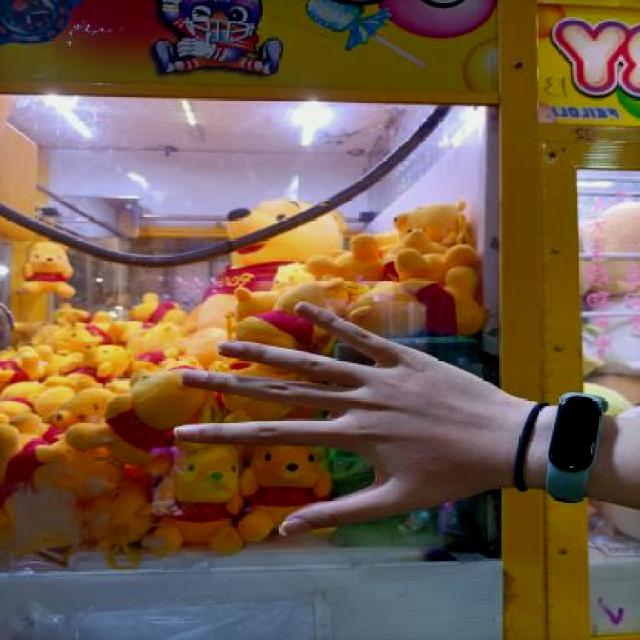no_glove: (160, 288, 569, 567)
